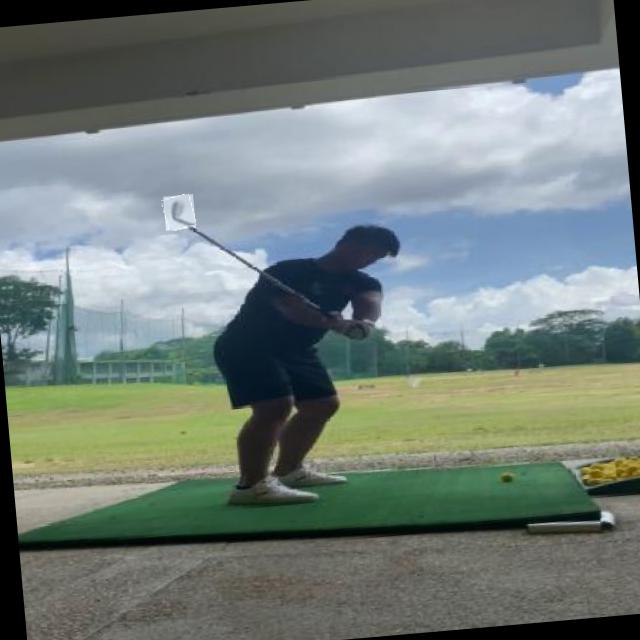club head: (162, 193, 195, 230)
